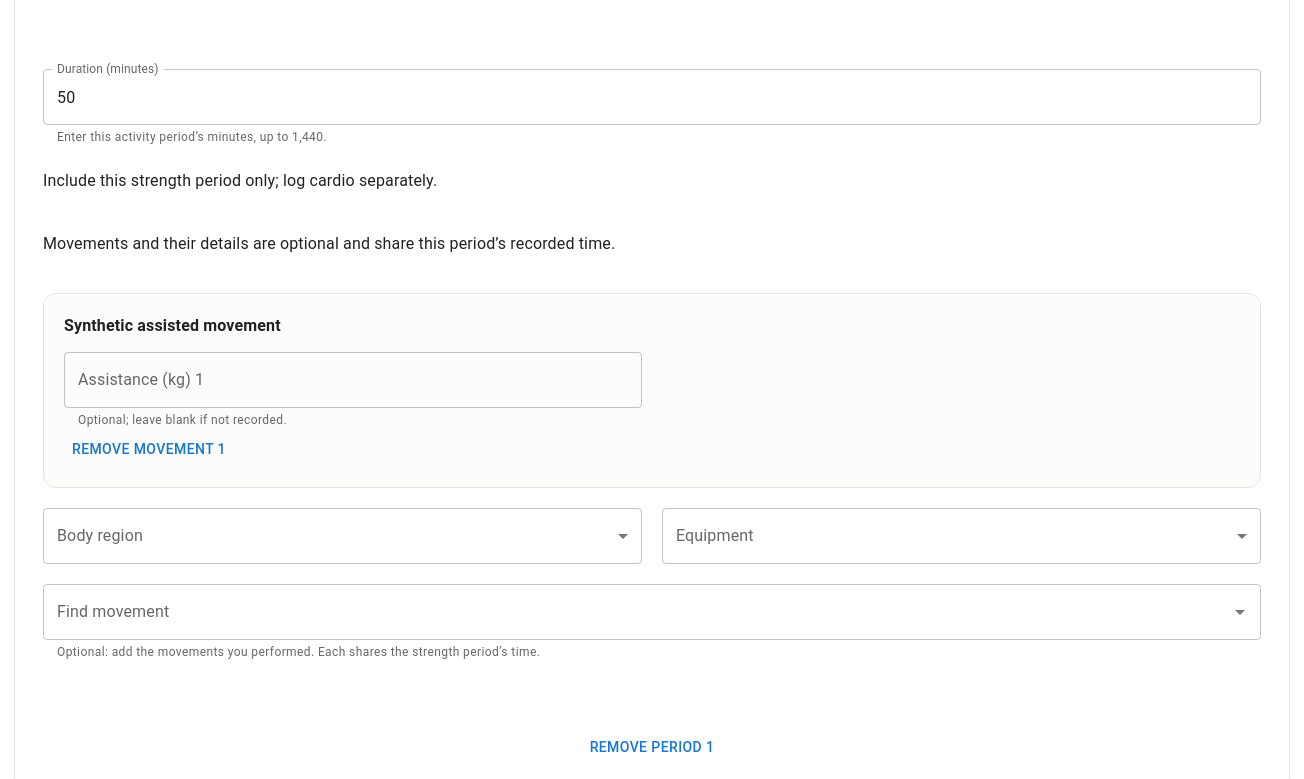
Scenario: labels assistance separately and preserves a deliberately recorded zero instead of treating it as absent
(page scrolled)
Type "0" into the field labelled "Assistance (kg) 1".
click(353, 380); type("0")  # box [64,352,642,408]
(page scrolled)
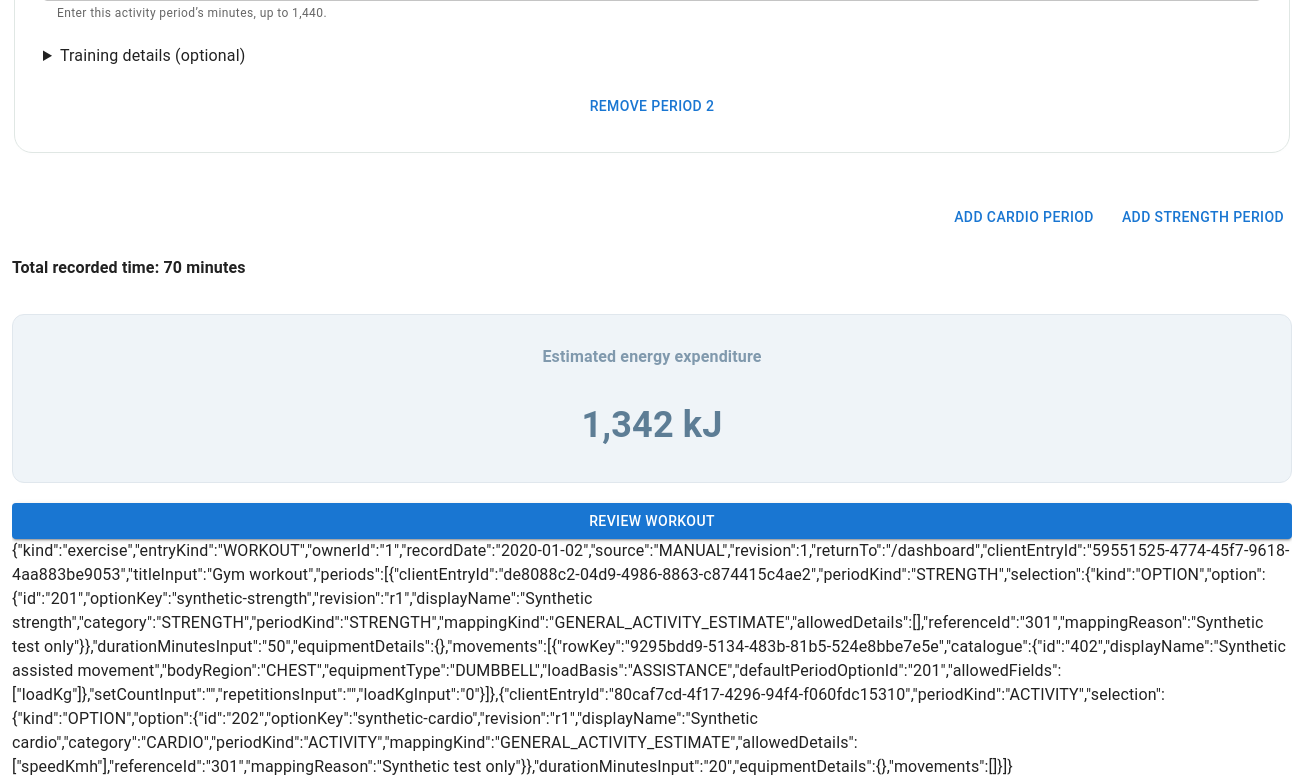
Result: the button "Review workout" is enabled at [12,503,1292,539]
